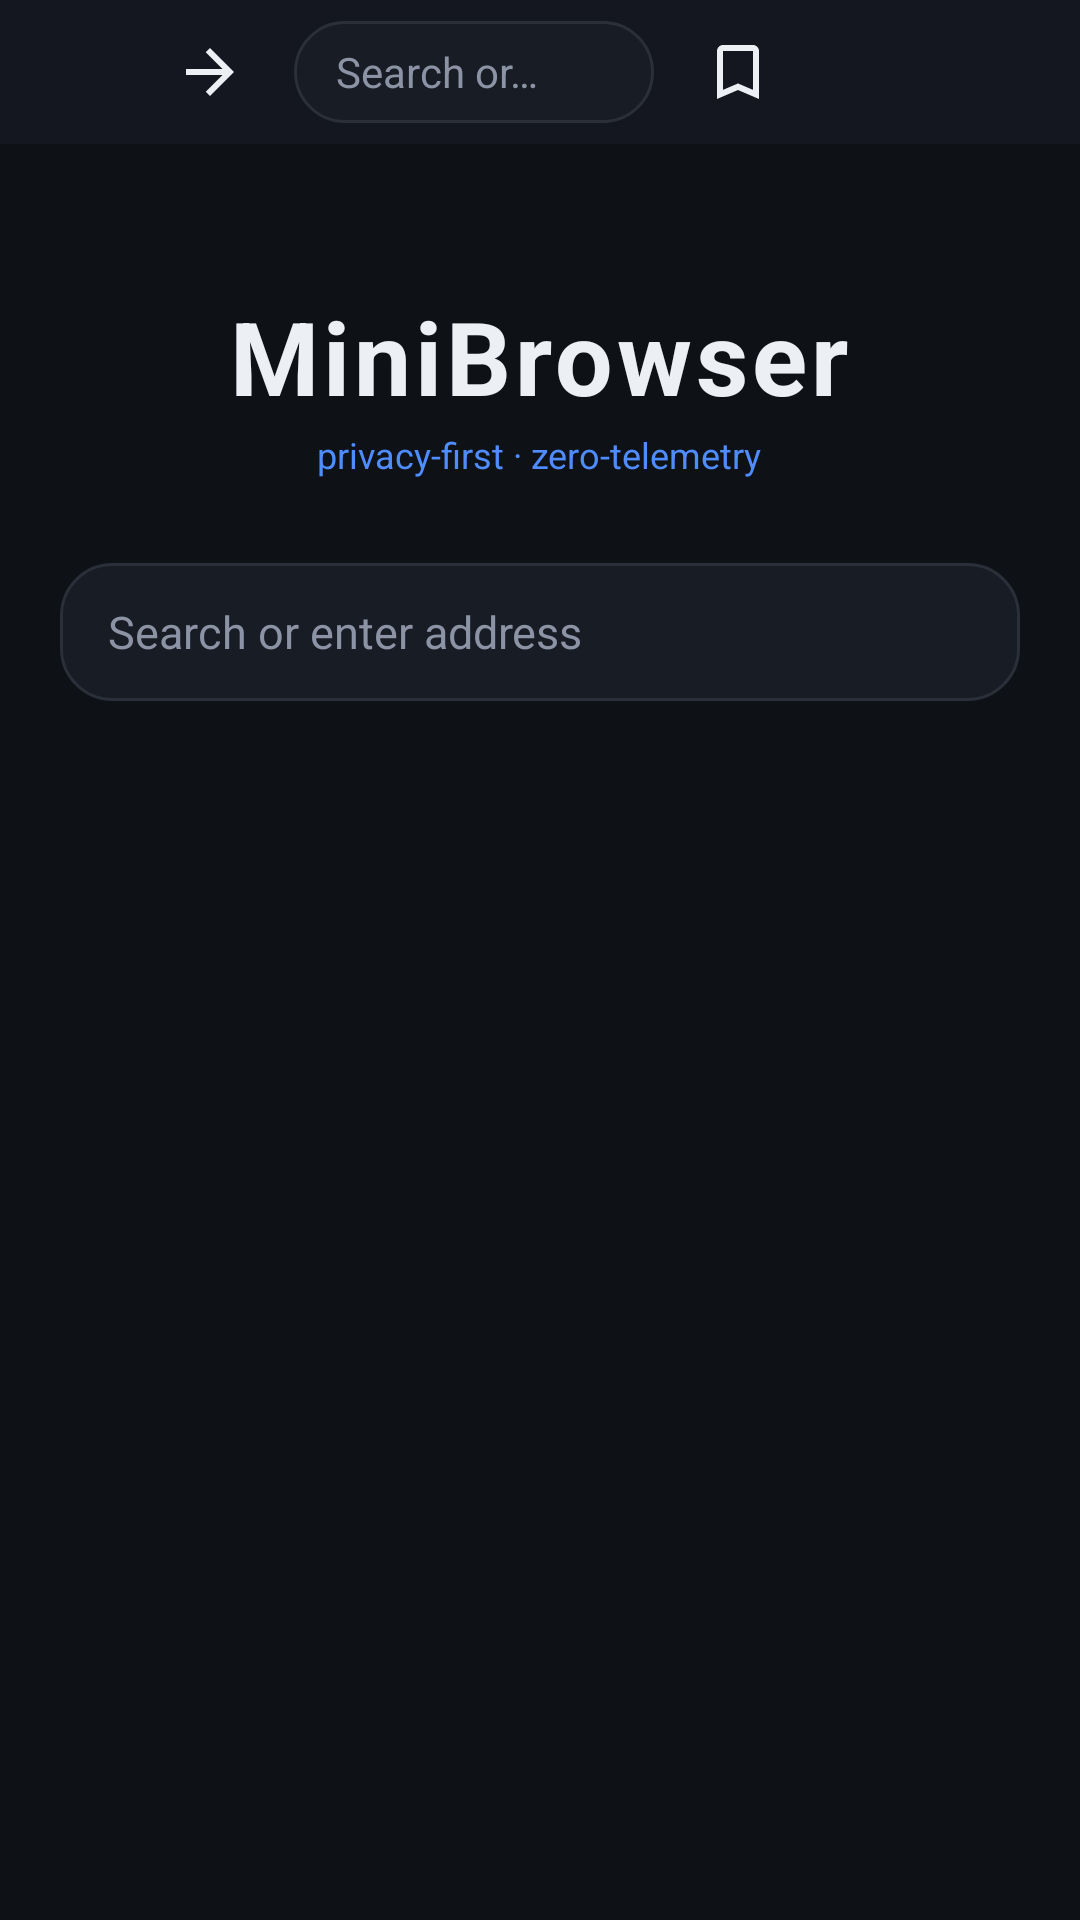

Icons on this 1080*1920 Android screen, each with its box as (x1, y1, x2, y2):
Bookmark: (717, 45, 759, 99)
Forward: (186, 48, 234, 96)
